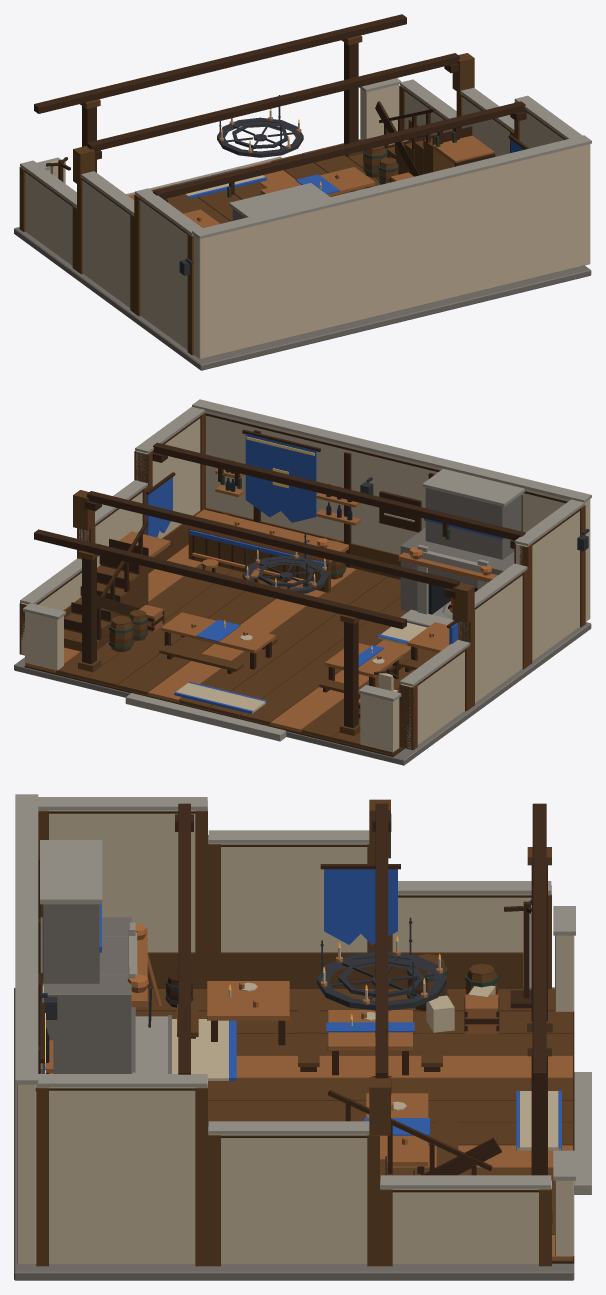
File: 酒馆内部_手游_近.glb
The picture shows the model from 3 angles, top to bottom: view 1: azimuth 30°, elevation 25°; view 2: azimuth 150°, elevation 25°; view 3: azimuth 270°, elevation 25°; orthographic projection. The views are drawn at different scales.
Parts seen in each view (by area): view 1: TV-主体, TV-team; view 2: TV-主体, TV-team; view 3: TV-主体, TV-team.
Part boxes in pixels (bbox=[...]): TV-主体: bbox=[14, 14, 591, 370]; TV-team: bbox=[175, 140, 524, 198]; TV-主体: bbox=[14, 399, 591, 765]; TV-team: bbox=[146, 433, 503, 713]; TV-主体: bbox=[14, 794, 591, 1280]; TV-team: bbox=[42, 869, 561, 1150].
Size of the model in its own units: 10.83 by 3.49 by 9.08.
Materials: 4 (2 with a texture image).
